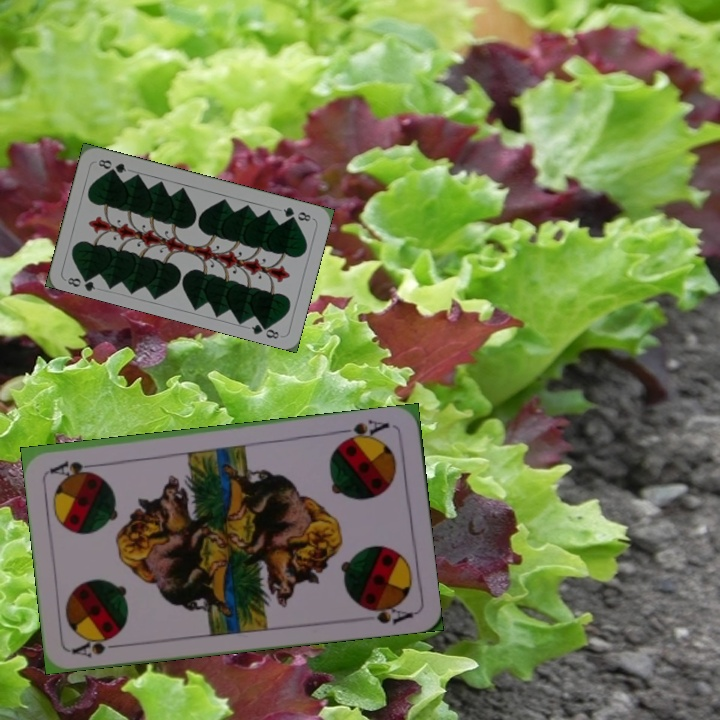G8: (63, 270, 98, 293), (279, 203, 314, 224)
SA: (68, 630, 127, 660), (335, 415, 392, 446)
